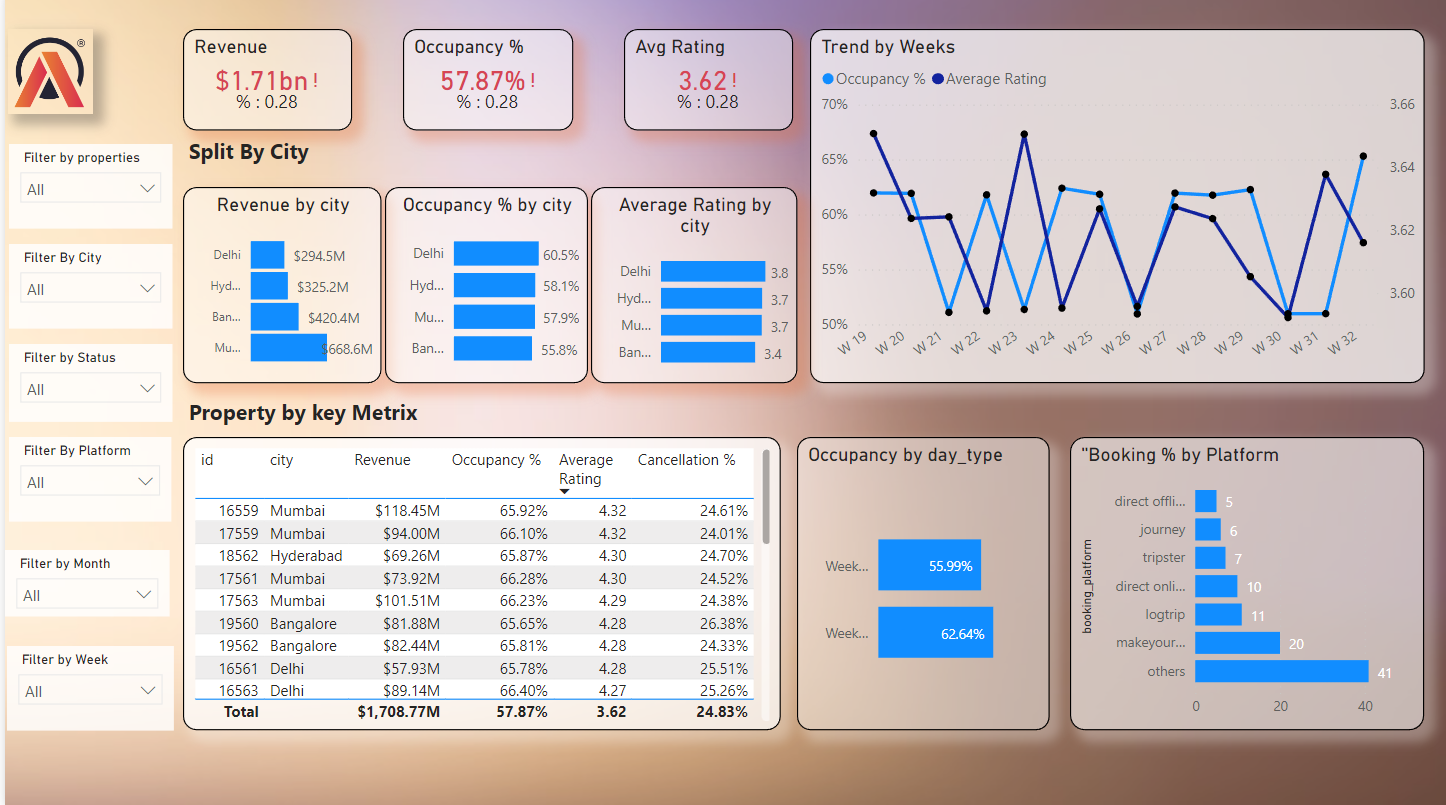

The page's visual inventory and layout, read from the dashboard file:
{"tool":"powerbi","page":{"name":"Page 1","canvas":[1280,720],"ordinal":0},"visuals":[{"type":"tableEx","fields":{"Values":["dim_hotels.property_id","dim_hotels.city","key_measure (2).Revenue","key_measure (2).Occupancy %","key_measure (2).Average Rating","key_measure (2).Cancellation %"]},"box":[157.4,392.6,529.7,260.5],"z":0},{"type":"slicer","fields":{"Values":["dim_hotels.city"]},"box":[3.2,221.7,145.4,75.4],"z":1000},{"type":"kpi","title":"Revenue","fields":{"TrendLine":["dim_date.mmm yy.Variation.Date Hierarchy.Year"],"Indicator":["key_measure.Revenue"],"Goal":["key_measure.\"Revenue WoW change %"]},"box":[157.4,31.1,149.7,90.4],"z":2000},{"type":"slicer","fields":{"Values":["fact_bookings.booking_platform"]},"box":[3.2,392.8,143.6,75.4],"z":3000},{"type":"kpi","title":"Occupancy %","fields":{"TrendLine":["dim_date.mmm yy.Variation.Date Hierarchy.Year"],"Indicator":["key_measure.Occupancy %"],"Goal":["key_measure.\"Occupancy WoW change %"]},"box":[352.8,31.1,150.6,90.4],"z":4000},{"type":"slicer","title":"Filter by Month","fields":{"Values":["dim_date.mmm yy"]},"box":[0,492.8,145.8,59.3],"z":5000},{"type":"kpi","title":"Avg Rating","fields":{"TrendLine":["dim_date.mmm yy.Variation.Date Hierarchy.Year"],"Goal":["key_measure.\"Occupancy WoW change %"],"Indicator":["key_measure.Average Rating"]},"box":[549.1,31.1,149.7,90.4],"z":6000},{"type":"slicer","title":"Filter by Week","fields":{"Values":["dim_date.week no"]},"box":[1.9,578.3,147.7,74.8],"z":7000},{"type":"lineChart","title":"Trend by Weeks","fields":{"Y2":["key_measure.Average Rating"],"Category":["dim_date.week no"],"Y":["key_measure.Occupancy %"]},"box":[713.4,31.1,545.2,313.9],"z":8000},{"type":"slicer","fields":{"Values":["dim_hotels.property_name"]},"box":[3.2,133,145.4,75.4],"z":9000},{"type":"slicer","fields":{"Values":["fact_bookings.booking_status"]},"box":[3.2,310.3,145.4,69.2],"z":10000},{"type":"clusteredBarChart","title":"Occupancy by day_type","fields":{"Category":["dim_date.day_type"],"Y":["key_measure.Occupancy %"]},"box":[702.7,392.6,223.5,260.5],"z":11000},{"type":"clusteredBarChart","fields":{"Y":["key_measure.Revenue"],"Category":["dim_hotels.city"]},"box":[157.4,171.1,175.9,174],"z":12000},{"type":"clusteredBarChart","title":"\"Booking % by Platform","fields":{"Category":["fact_bookings.booking_platform"],"Y":["key_measure.\"Booking % by Platform"]},"box":[944.7,392.6,313.9,260.5],"z":13000},{"type":"clusteredBarChart","fields":{"Category":["dim_hotels.city"],"Y":["key_measure.Occupancy %"]},"box":[336.8,171.1,179.8,174],"z":14000},{"type":"clusteredBarChart","fields":{"Y":["key_measure.Average Rating"],"Category":["dim_hotels.city"]},"box":[520,171.1,182.7,174],"z":15000},{"type":"image","box":[2.9,31.1,74.8,74.8],"z":16000},{"type":"textbox","box":[157.4,121.5,149.7,39.8],"z":16001},{"type":"textbox","box":[157.4,352.8,239.1,39.8],"z":16002}]}

Visuals, with their boxes in screenshot pixels (x1, y1, x2, y2), scaled from the page's 1280x720 canvas onto the 1446x805 screenshot:
tableEx - dim_hotels.property_id x dim_hotels.city: crop(178, 439, 776, 730)
slicer - dim_hotels.city: crop(4, 248, 168, 332)
"Revenue" kpi: crop(178, 35, 347, 136)
slicer - fact_bookings.booking_platform: crop(4, 439, 166, 523)
"Occupancy %" kpi: crop(399, 35, 569, 136)
"Filter by Month" slicer: crop(0, 551, 165, 617)
"Avg Rating" kpi: crop(620, 35, 789, 136)
"Filter by Week" slicer: crop(2, 647, 169, 730)
"Trend by Weeks" lineChart: crop(806, 35, 1422, 386)
slicer - dim_hotels.property_name: crop(4, 149, 168, 233)
slicer - fact_bookings.booking_status: crop(4, 347, 168, 424)
"Occupancy by day_type" clusteredBarChart: crop(794, 439, 1046, 730)
clusteredBarChart - key_measure.Revenue x dim_hotels.city: crop(178, 191, 377, 386)
""Booking % by Platform" clusteredBarChart: crop(1067, 439, 1422, 730)
clusteredBarChart - dim_hotels.city x key_measure.Occupancy %: crop(380, 191, 584, 386)
clusteredBarChart - key_measure.Average Rating x dim_hotels.city: crop(587, 191, 794, 386)
image: crop(3, 35, 88, 118)
textbox: crop(178, 136, 347, 180)
textbox: crop(178, 394, 448, 439)
